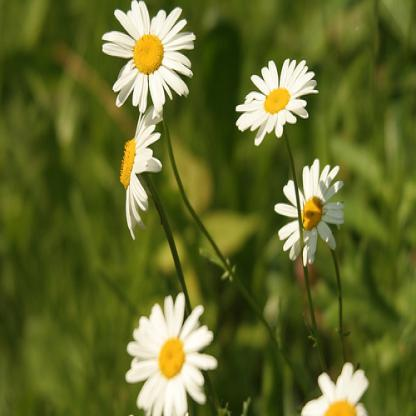ASTER: (82, 3, 374, 414)
